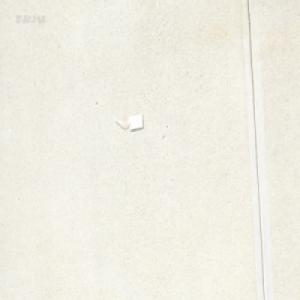LuggageTag: (113, 113, 143, 130)
